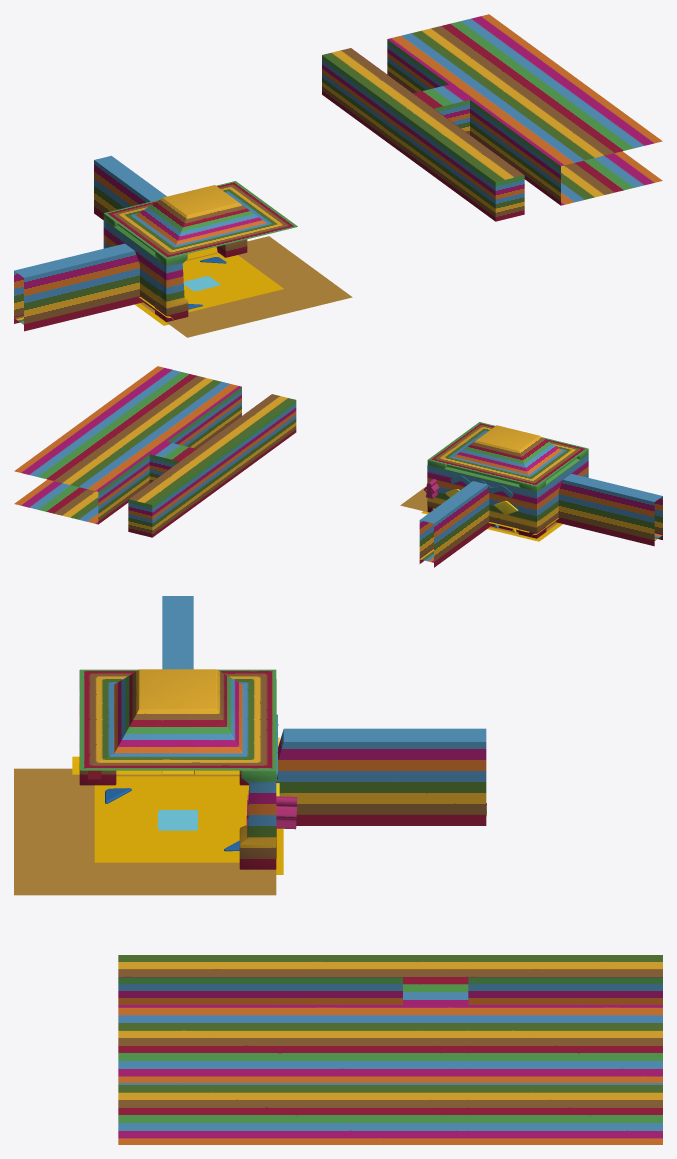
Rendered from striperoom.fbx.
The picture shows the model from 3 angles, top to bottom: view 1: azimuth 30°, elevation 25°; view 2: azimuth 150°, elevation 25°; view 3: azimuth 270°, elevation 25°; orthographic projection. The views are drawn at different scales.
Parts seen in each view (by area): view 1: room_2, wall_1, roof, floor, floor_2, wall_2, pillars; view 2: room_2, wall_2, wall_1, roof, pillars, floor; view 3: room_2, roof, wall_2, floor, floor_2, pillars, wall_1, colourmat.
Part boxes in pixels (x1,y1,x2,y2): room_2: (322,14,662,221); wall_1: (14,221,163,331); roof: (104,181,297,258); floor: (140,236,352,337); floor_2: (135,253,283,325); wall_2: (94,155,166,219); pillars: (103,213,247,321); room_2: (14,366,296,537); wall_2: (419,464,536,567); wall_1: (539,455,662,546); roof: (428,422,588,486); pillars: (427,449,588,538); floor: (400,486,558,538); room_2: (118,955,662,1144); roof: (80,669,276,770); wall_2: (276,679,486,857); floor: (14,768,276,895); floor_2: (94,776,283,874); pillars: (79,670,276,869); wall_1: (162,596,193,669); colourmat: (158,810,197,830).
Bounding box in the file's own units: 1668 × 216 × 957.
